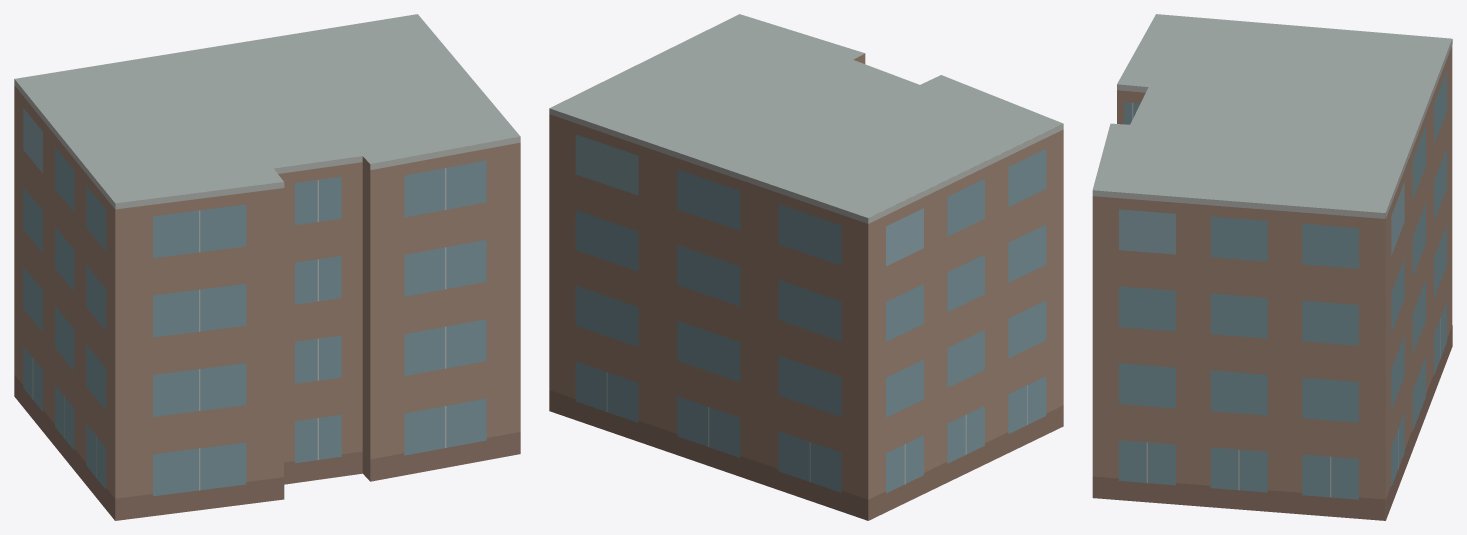
The model's file is survey-upis-32971549.glb.
3 views of the same model, side by side, from view 1: azimuth 30°, elevation 25°; view 2: azimuth 150°, elevation 25°; view 3: azimuth 270°, elevation 25° (orthographic). The views are drawn at different scales.
Parts seen in each view (by area): view 1: survey-upis-32971549.tmp; view 2: survey-upis-32971549.tmp; view 3: survey-upis-32971549.tmp.
Part boxes in pixels (box(x1,y1,x2,y2)): survey-upis-32971549.tmp: box(14, 14, 520, 520); survey-upis-32971549.tmp: box(549, 14, 1063, 520); survey-upis-32971549.tmp: box(1092, 14, 1452, 520).
Bounding box in the file's own units: 17.77 × 12.8 × 13.58.
